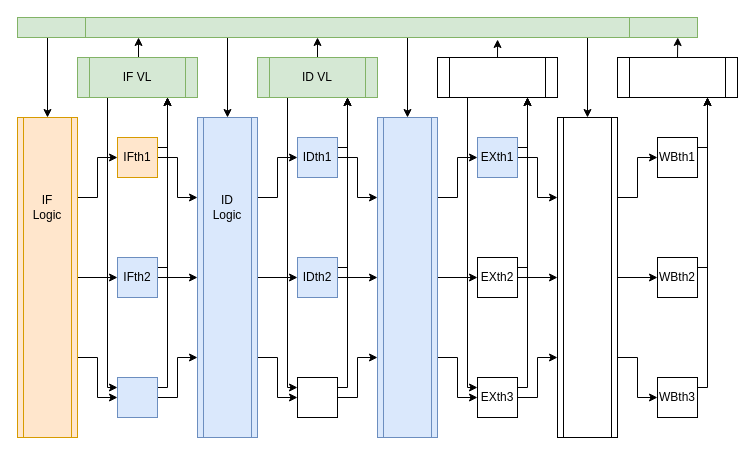
This 755x455 diagram has some shape labels left out. Each missing label, with the centre of its shape:
"CG Logic" belongs at point 357,27.
"EX Logic" belongs at point 407,277.
"EX VL" belongs at point 497,77.
"IDth3" belongs at point 317,397.
"IFth3" belongs at point 137,397.
"WB logic" belongs at point 587,277.
"WB VL" belongs at point 677,77.
